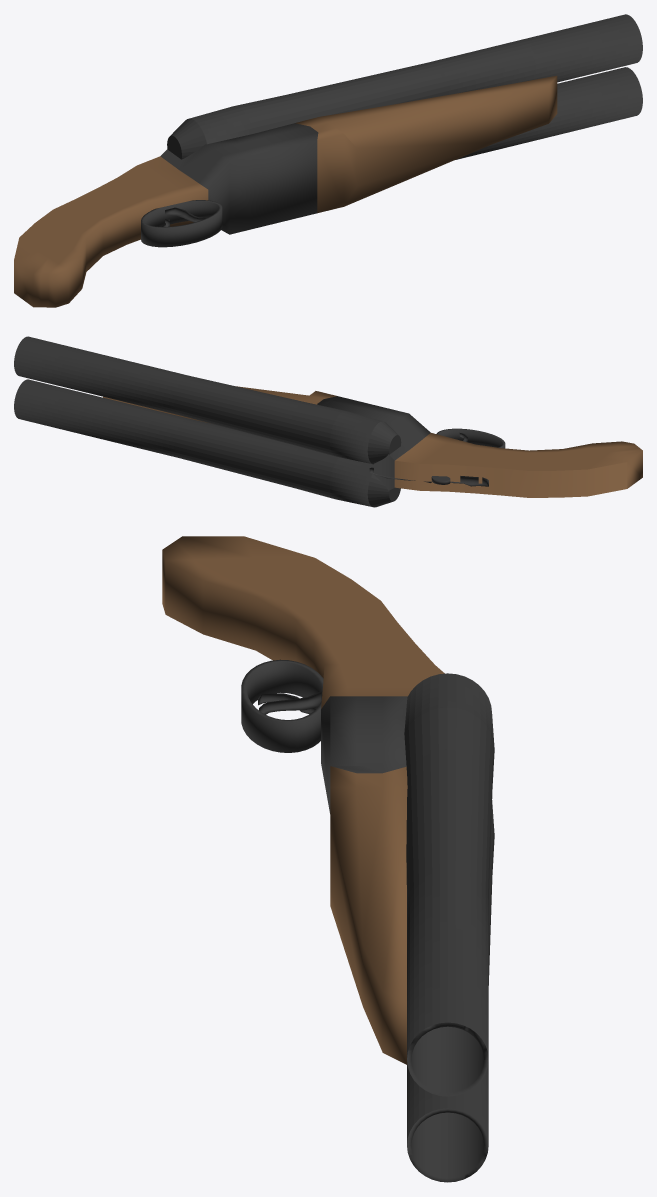
File: sawedoffshotgun.fbx
3 renders of one model, top to bottom at view 1: azimuth 30°, elevation 25°; view 2: azimuth 150°, elevation 25°; view 3: azimuth 270°, elevation 25°, orthographic. The views are drawn at different scales.
Parts seen in each view (by area): view 1: BarrelandBrace, Base; view 2: BarrelandBrace, Base; view 3: BarrelandBrace, Base.
Part boxes in pixels (left/top/right/bottom): BarrelandBrace: left=189, top=14, right=642, bottom=213; Base: left=14, top=118, right=318, bottom=307; BarrelandBrace: left=14, top=336, right=382, bottom=506; Base: left=317, top=396, right=642, bottom=507; BarrelandBrace: left=330, top=673, right=494, bottom=1182; Base: left=162, top=536, right=444, bottom=813.
Bounding box in the file's own units: 497 × 73.55 × 130.
